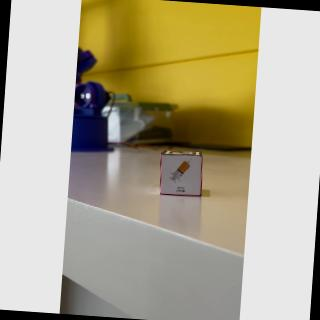Syringe: (159, 151, 206, 198)
